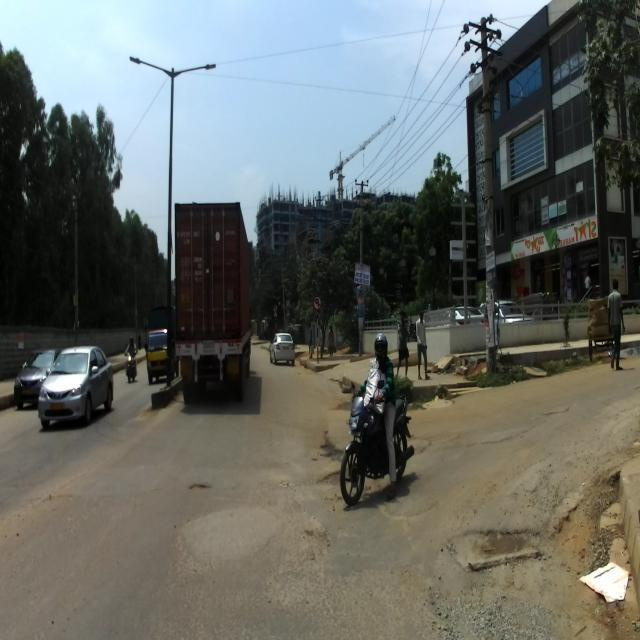Pothole: (550, 468, 617, 575), (324, 434, 344, 460)
Sewer Cover: (438, 528, 543, 575)
